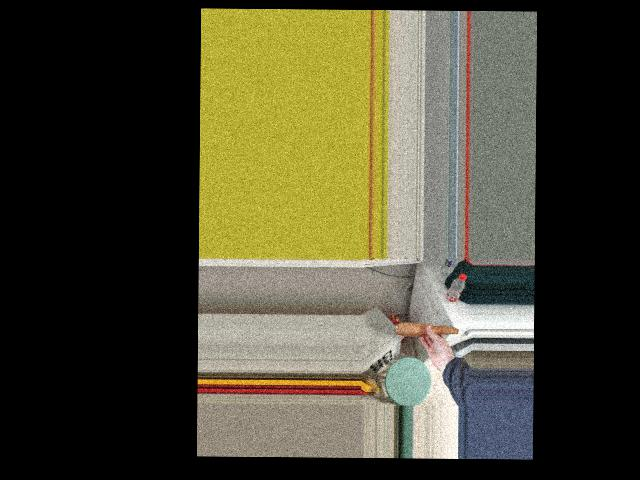sweet_potato: (396, 321, 459, 342)
